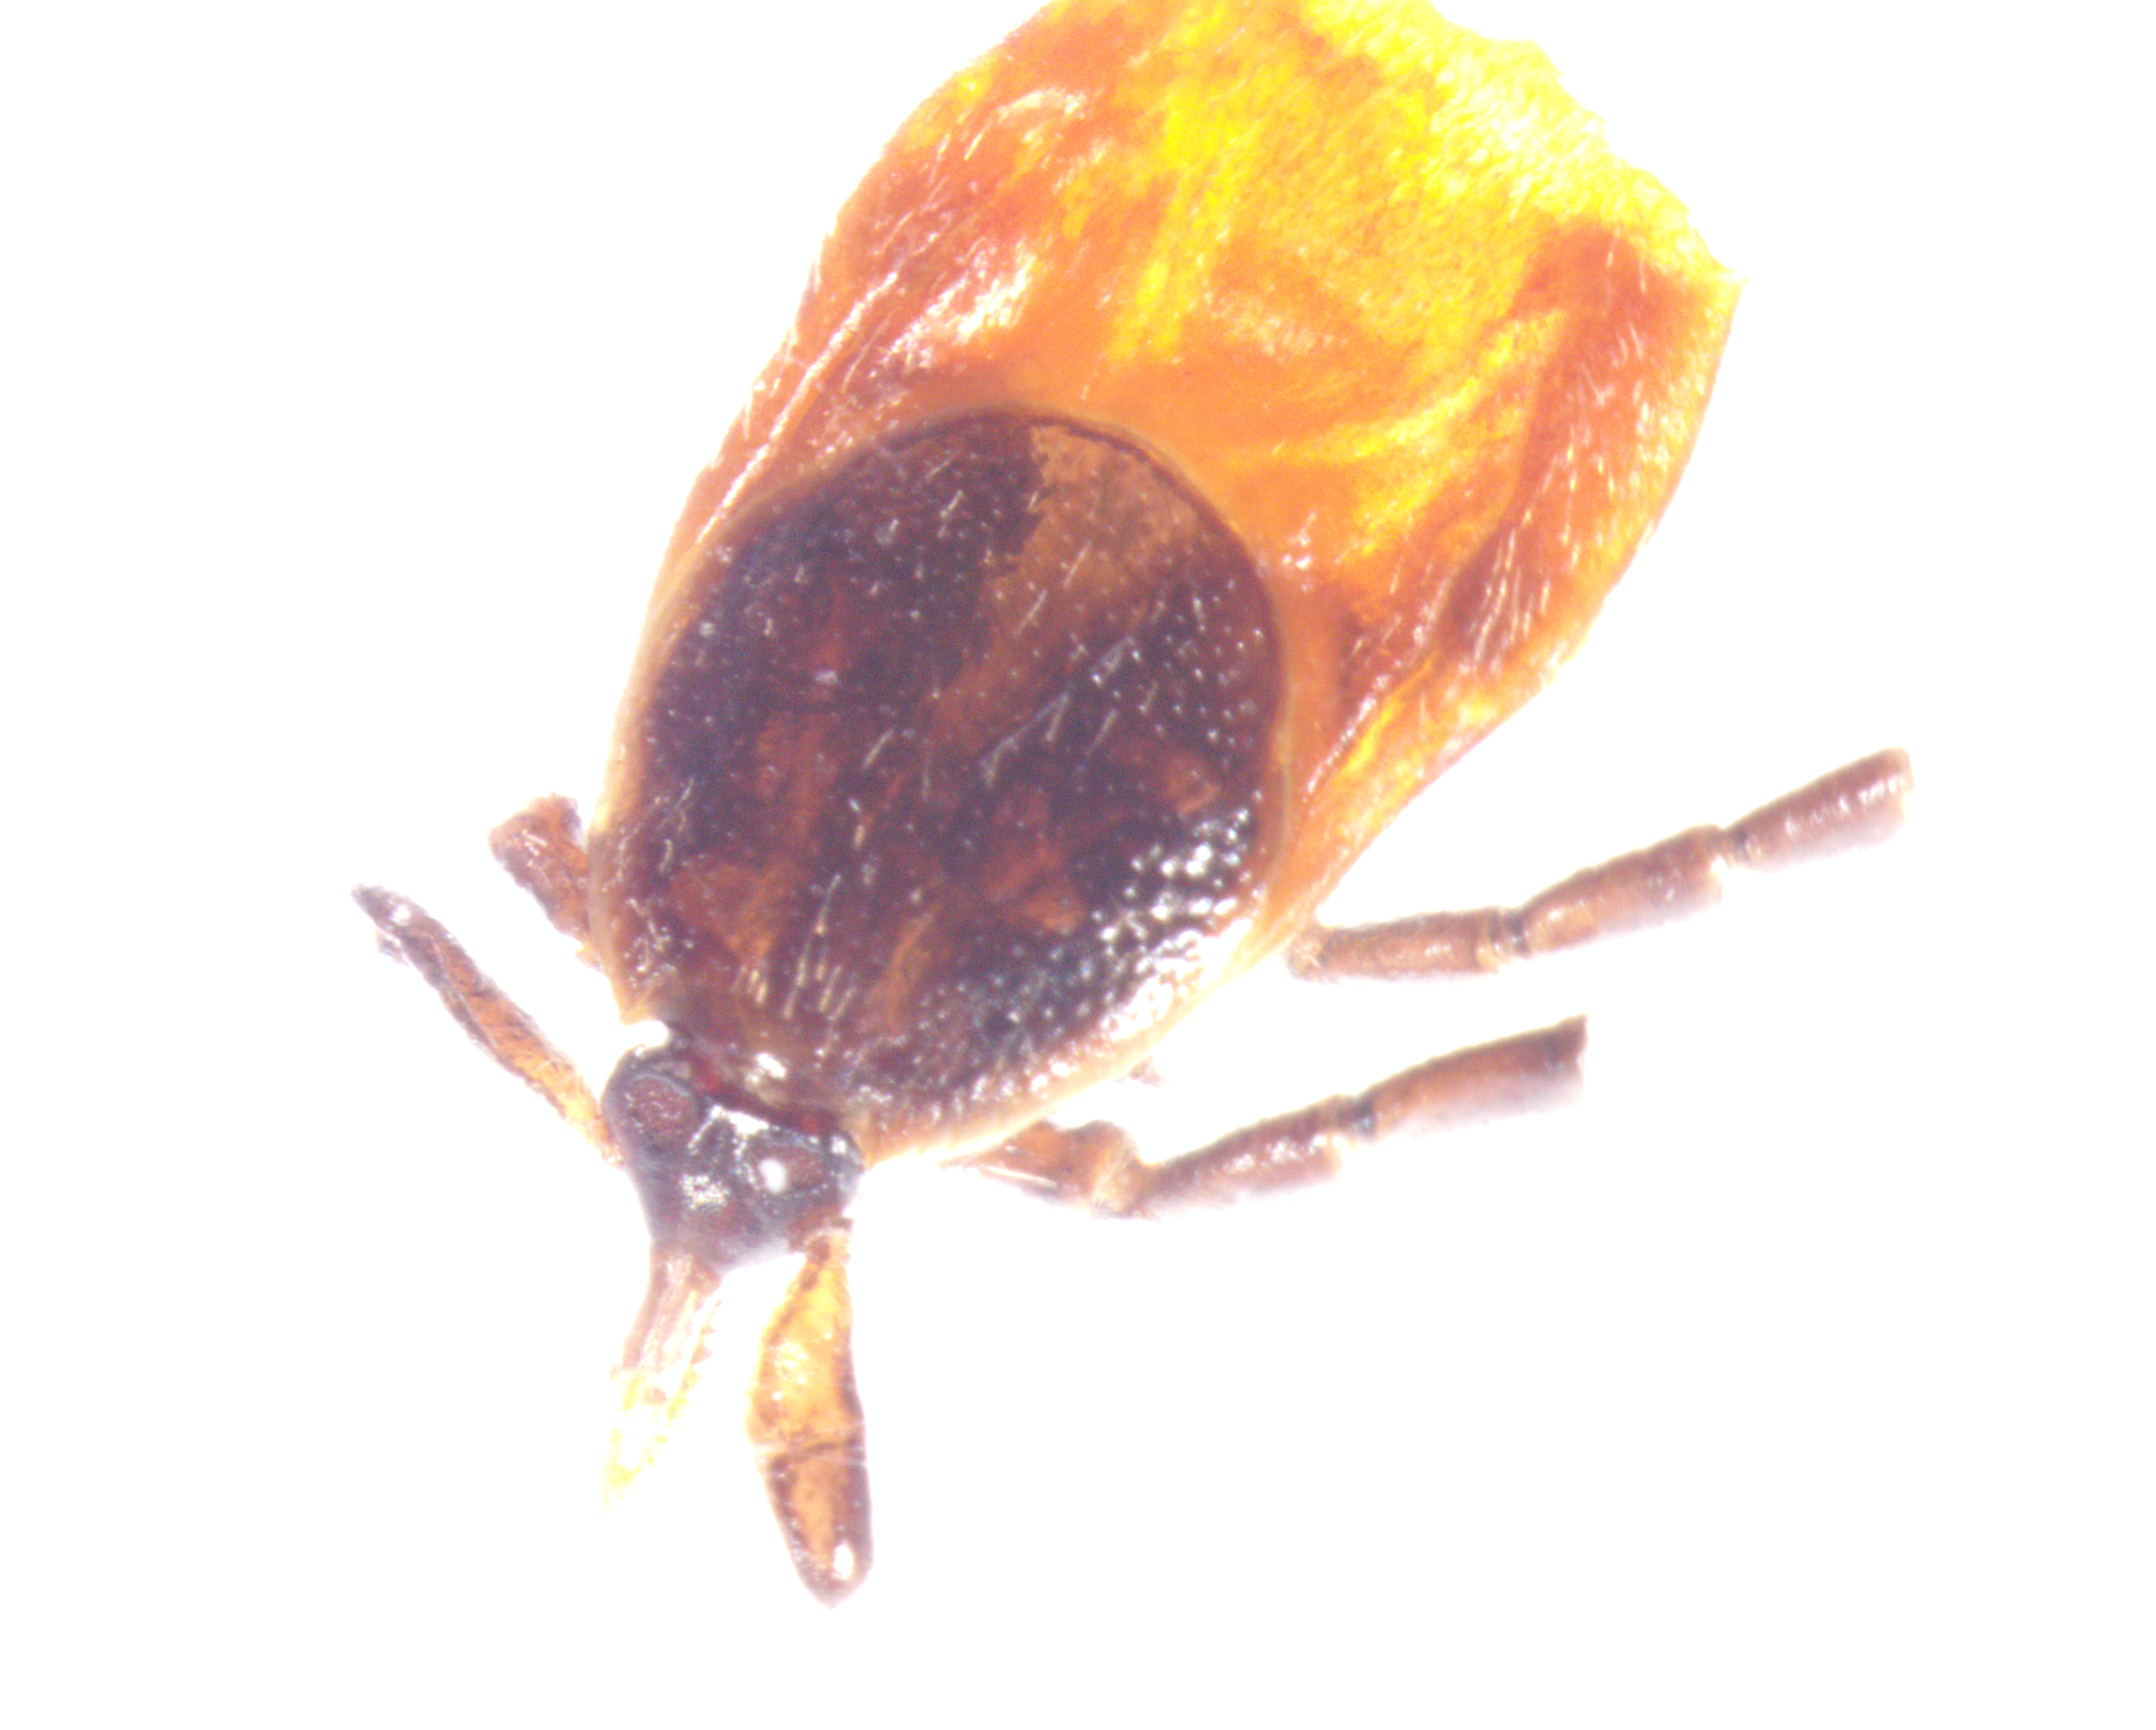unlabelled_tick: (312, 12, 1934, 1627)
